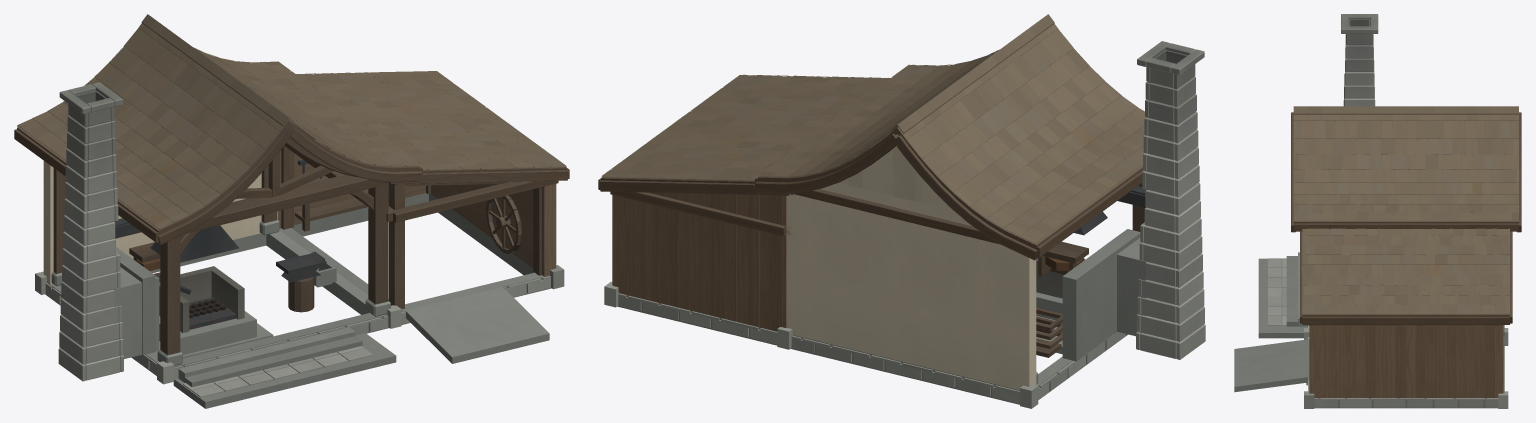
Rendered from smithy.glb.
3 renders of one model, left to right at view 1: azimuth 30°, elevation 25°; view 2: azimuth 150°, elevation 25°; view 3: azimuth 270°, elevation 25°, orthographic. The views are drawn at different scales.
Visible parts, largest first — view 1: world_lowmark.forge_hall.Split oak shingle courses, world_lowmark.forge_hall.smithy.stack_courses, world_lowmark.smithy_stock_range.Split oak shingle courses, world_lowmark.forge_hall.smithy.primary_end_bent, world_lowmark.forge_hall.smithy.material_ramp, world_lowmark.forge_hall.Seasoned shingle cohorts, world_lowmark.smithy_stock_range.facade_walls, world_lowmark.forge_hall.Exposed shingle butts, world_lowmark.forge_hall.Roof edge fascia, world_lowmark.smithy_stock_range.facade_foundation_core, world_lowmark.forge_hall.facade_foundation_core, world_lowmark.forge_hall.smithy.workfront_threshold (+27 smaller); view 2: world_lowmark.forge_hall.facade_walls, world_lowmark.forge_hall.Split oak shingle courses, world_lowmark.smithy_stock_range.facade_board_skin, world_lowmark.forge_hall.smithy.stack_courses, world_lowmark.smithy_stock_range.Split oak shingle courses, world_lowmark.forge_hall.smithy.fire_screen, world_lowmark.forge_hall.Seasoned shingle cohorts, world_lowmark.forge_hall.Exposed shingle butts, world_lowmark.forge_hall.Roof edge fascia, world_lowmark.forge_hall.facade_stone, world_lowmark.forge_hall.Concealed roof course bedding, world_lowmark.smithy_stock_range.Exposed shingle butts (+15 smaller); view 3: world_lowmark.forge_hall.Split oak shingle courses, world_lowmark.smithy_stock_range.facade_board_skin, world_lowmark.smithy_stock_range.Split oak shingle courses, world_lowmark.forge_hall.Seasoned shingle cohorts, world_lowmark.forge_hall.Exposed shingle butts, world_lowmark.forge_hall.smithy.material_ramp, world_lowmark.smithy_stock_range.Exposed shingle butts, world_lowmark.forge_hall.smithy.stack_courses, world_lowmark.smithy_stock_range.Seasoned shingle cohorts, world_lowmark.smithy_stock_range.Roof edge fascia, world_lowmark.forge_hall.Roof edge fascia, world_lowmark.forge_hall.Overlapping ridge caps (+10 smaller).
Boxes of the visible parts, box(x1,y1,x2,y2) form: world_lowmark.forge_hall.Split oak shingle courses: box(17, 23, 418, 229); world_lowmark.forge_hall.smithy.stack_courses: box(58, 82, 123, 381); world_lowmark.smithy_stock_range.Split oak shingle courses: box(296, 71, 561, 169); world_lowmark.forge_hall.smithy.primary_end_bent: box(53, 138, 388, 355); world_lowmark.forge_hall.smithy.material_ramp: box(405, 287, 549, 363); world_lowmark.forge_hall.Seasoned shingle cohorts: box(17, 25, 391, 229); world_lowmark.smithy_stock_range.facade_walls: box(277, 150, 555, 276); world_lowmark.forge_hall.Exposed shingle butts: box(20, 52, 419, 222); world_lowmark.forge_hall.Roof edge fascia: box(14, 126, 422, 244); world_lowmark.smithy_stock_range.facade_foundation_core: box(279, 193, 551, 324); world_lowmark.forge_hall.facade_foundation_core: box(45, 230, 388, 375); world_lowmark.forge_hall.smithy.workfront_threshold: box(178, 327, 362, 387); world_lowmark.forge_hall.facade_walls: box(786, 135, 1036, 390); world_lowmark.forge_hall.Split oak shingle courses: box(763, 24, 1145, 243); world_lowmark.smithy_stock_range.facade_board_skin: box(612, 192, 786, 331); world_lowmark.forge_hall.smithy.stack_courses: box(1136, 41, 1205, 359); world_lowmark.smithy_stock_range.Split oak shingle courses: box(601, 74, 890, 180); world_lowmark.forge_hall.smithy.fire_screen: box(1062, 229, 1146, 361); world_lowmark.forge_hall.Seasoned shingle cohorts: box(758, 48, 1144, 243); world_lowmark.forge_hall.Exposed shingle butts: box(798, 49, 1143, 240); world_lowmark.forge_hall.Roof edge fascia: box(755, 133, 1142, 260); world_lowmark.forge_hall.facade_stone: box(791, 332, 1127, 403); world_lowmark.forge_hall.Concealed roof course bedding: box(758, 31, 1143, 244); world_lowmark.smithy_stock_range.Exposed shingle butts: box(630, 75, 886, 179); world_lowmark.forge_hall.Split oak shingle courses: box(1293, 114, 1518, 220); world_lowmark.smithy_stock_range.facade_board_skin: box(1309, 325, 1504, 397); world_lowmark.smithy_stock_range.Split oak shingle courses: box(1302, 228, 1509, 313); world_lowmark.forge_hall.Seasoned shingle cohorts: box(1293, 114, 1518, 220); world_lowmark.forge_hall.Exposed shingle butts: box(1293, 114, 1518, 220); world_lowmark.forge_hall.smithy.material_ramp: box(1234, 339, 1309, 392); world_lowmark.smithy_stock_range.Exposed shingle butts: box(1302, 228, 1509, 313); world_lowmark.forge_hall.smithy.stack_courses: box(1341, 14, 1378, 106); world_lowmark.smithy_stock_range.Seasoned shingle cohorts: box(1302, 228, 1509, 313); world_lowmark.smithy_stock_range.Roof edge fascia: box(1300, 231, 1512, 324); world_lowmark.forge_hall.Roof edge fascia: box(1291, 112, 1521, 232); world_lowmark.forge_hall.Overlapping ridge caps: box(1293, 106, 1518, 114).
Bounding box in the file's own units: 11.41 × 6.59 × 7.68.
Materials: 14 (14 with a texture image).
